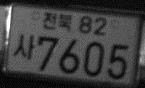0: (82, 40, 105, 77)
2: (93, 16, 108, 36)
5: (107, 42, 130, 79)
6: (59, 38, 80, 74)
7: (36, 34, 59, 71)
8: (77, 14, 92, 34)
사: (12, 33, 36, 61)
전북_H: (41, 11, 72, 32)
